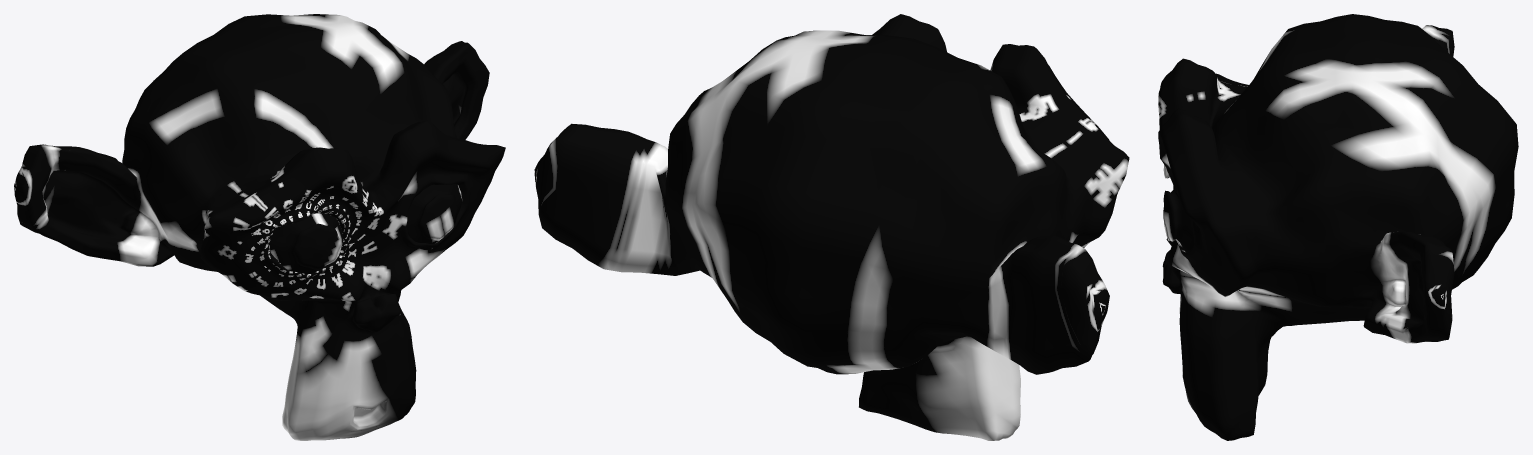
File: monkey.obj
3 renders of one model, left to right at view 1: azimuth 30°, elevation 25°; view 2: azimuth 150°, elevation 25°; view 3: azimuth 270°, elevation 25°, orthographic. The views are drawn at different scales.
Visible parts, largest first — view 1: Suzanne; view 2: Suzanne; view 3: Suzanne.
Part boxes in pixels (left/top/right/bottom): Suzanne: left=14, top=14, right=505, bottom=440; Suzanne: left=534, top=14, right=1129, bottom=440; Suzanne: left=1158, top=14, right=1518, bottom=440.
Size of the model in its own units: 2.73 by 1.97 by 1.71.
1 material, 1 textured.
